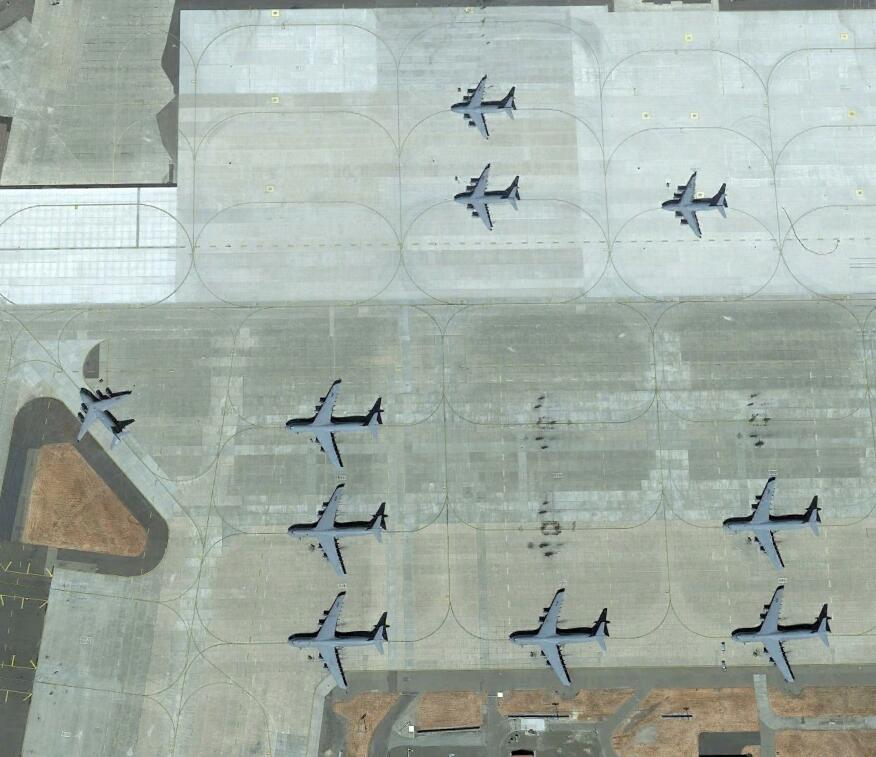A3: (452, 165, 522, 233), (661, 172, 728, 239), (451, 75, 517, 141), (75, 385, 136, 445)
A4: (726, 586, 832, 687), (507, 589, 613, 690), (289, 591, 390, 693), (725, 476, 822, 574), (289, 483, 388, 579), (287, 377, 381, 475)
